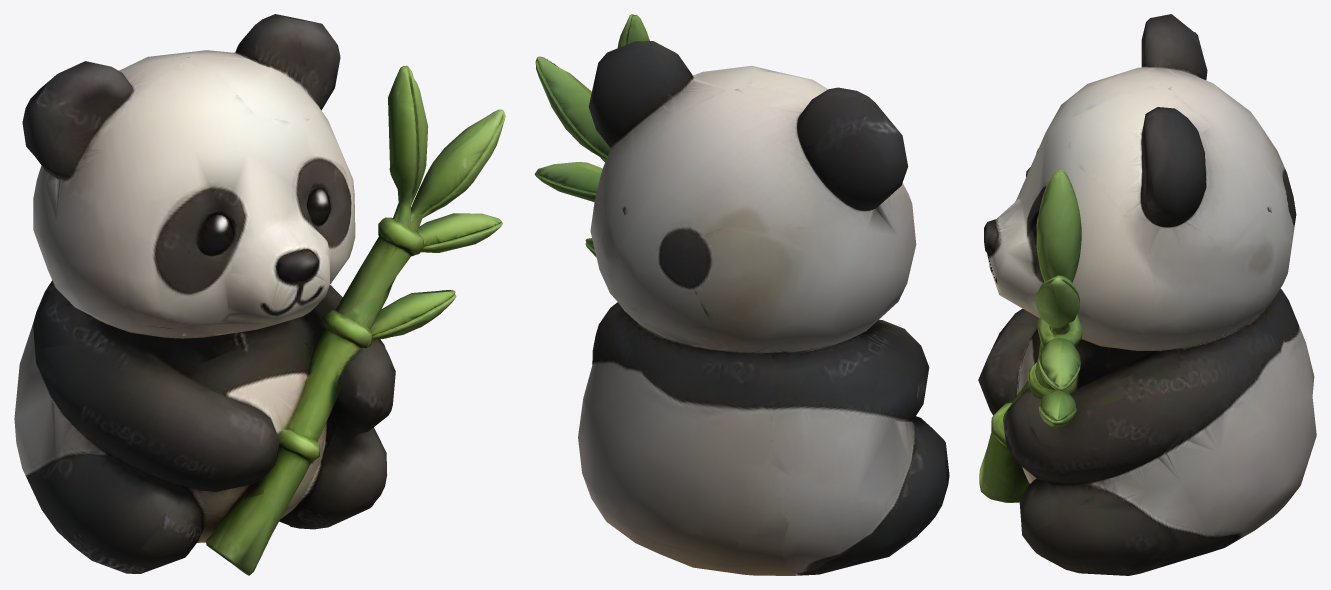
The model's file is panda_pbr.glb.
3 views of the same model, side by side, from view 1: azimuth 30°, elevation 25°; view 2: azimuth 150°, elevation 25°; view 3: azimuth 270°, elevation 25° (orthographic). The views are drawn at different scales.
Visible parts, largest first — view 1: model; view 2: model; view 3: model.
Part boxes in pixels (box(x1,y1,x2,y2)): model: box(14, 14, 505, 575); model: box(534, 14, 949, 575); model: box(978, 14, 1316, 575).
Size of the model in its own units: 1.7 by 1.86 by 1.23.
Materials: 1 (1 with a texture image).
